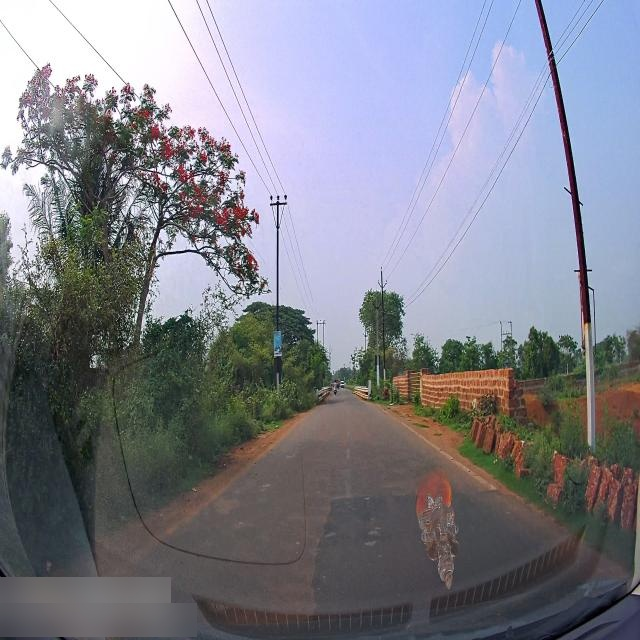pothole: (358, 511, 382, 528), (263, 480, 275, 495), (235, 513, 245, 517)
